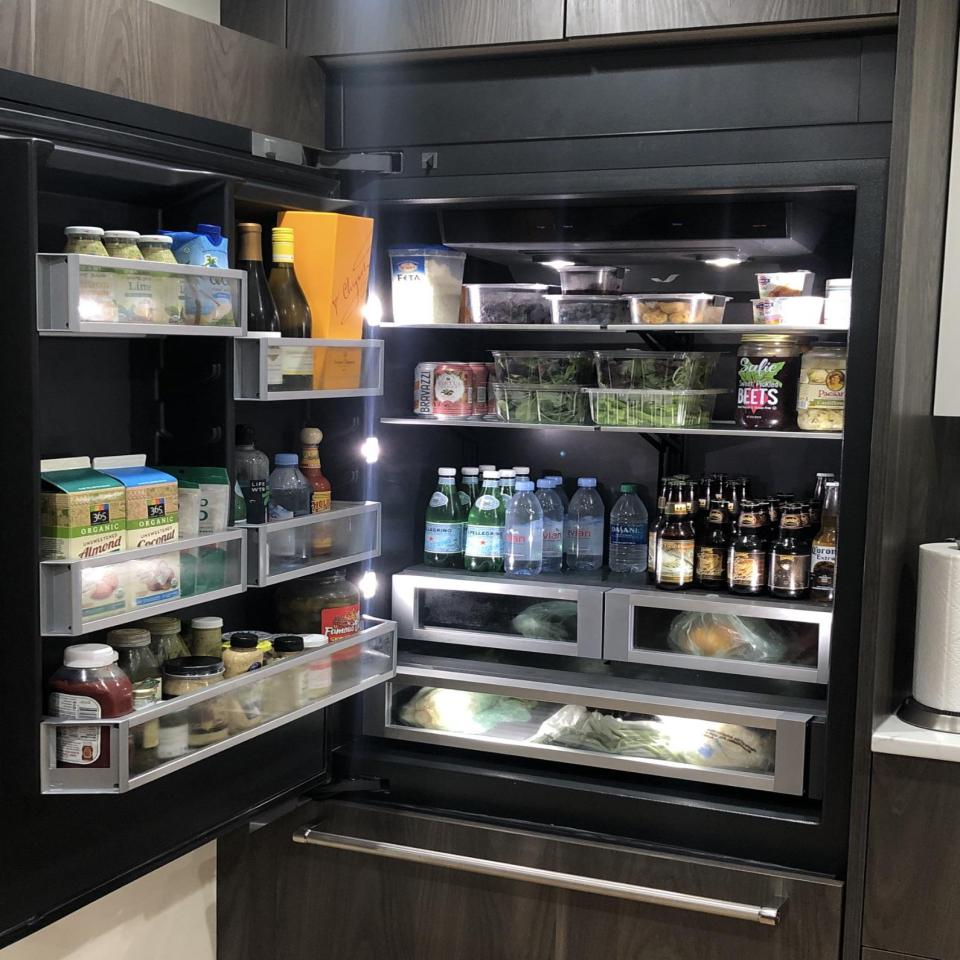blueberries: (548, 295, 632, 324)
ketchup: (52, 644, 132, 768)
